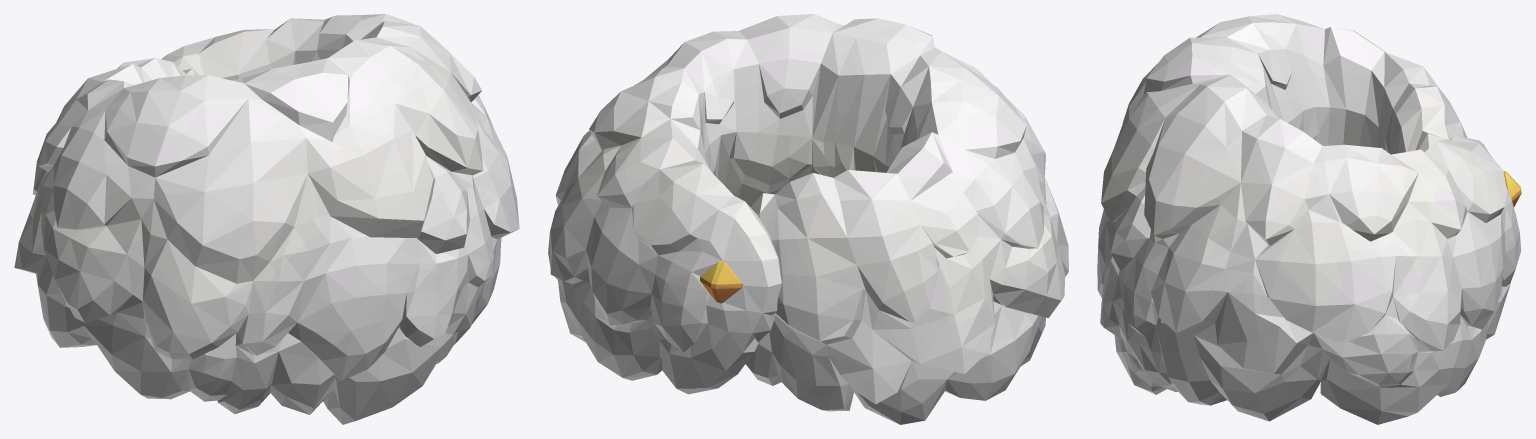
Rendered from CharSkyKid_Wing_FeastFurShawl.glb.
The picture shows the model from 3 angles, left to right: view 1: azimuth 30°, elevation 25°; view 2: azimuth 150°, elevation 25°; view 3: azimuth 270°, elevation 25°; orthographic projection. The views are drawn at different scales.
Visible parts, largest first — view 1: CharSkyKid_Wing_FeastFurShawl; view 2: CharSkyKid_Wing_FeastFurShawl; view 3: CharSkyKid_Wing_FeastFurShawl.
Part boxes in pixels (left/top/right/bottom): CharSkyKid_Wing_FeastFurShawl: left=14, top=14, right=519, bottom=424; CharSkyKid_Wing_FeastFurShawl: left=548, top=14, right=1068, bottom=424; CharSkyKid_Wing_FeastFurShawl: left=1097, top=14, right=1521, bottom=424.
Bounding box in the file's own units: 5.59 × 4 × 4.71.
1 material, 1 textured.
